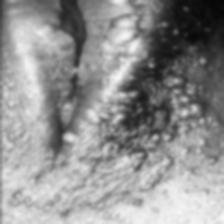Toxin: (170, 72, 206, 122), (104, 12, 142, 46), (59, 132, 78, 142), (101, 0, 131, 5)
